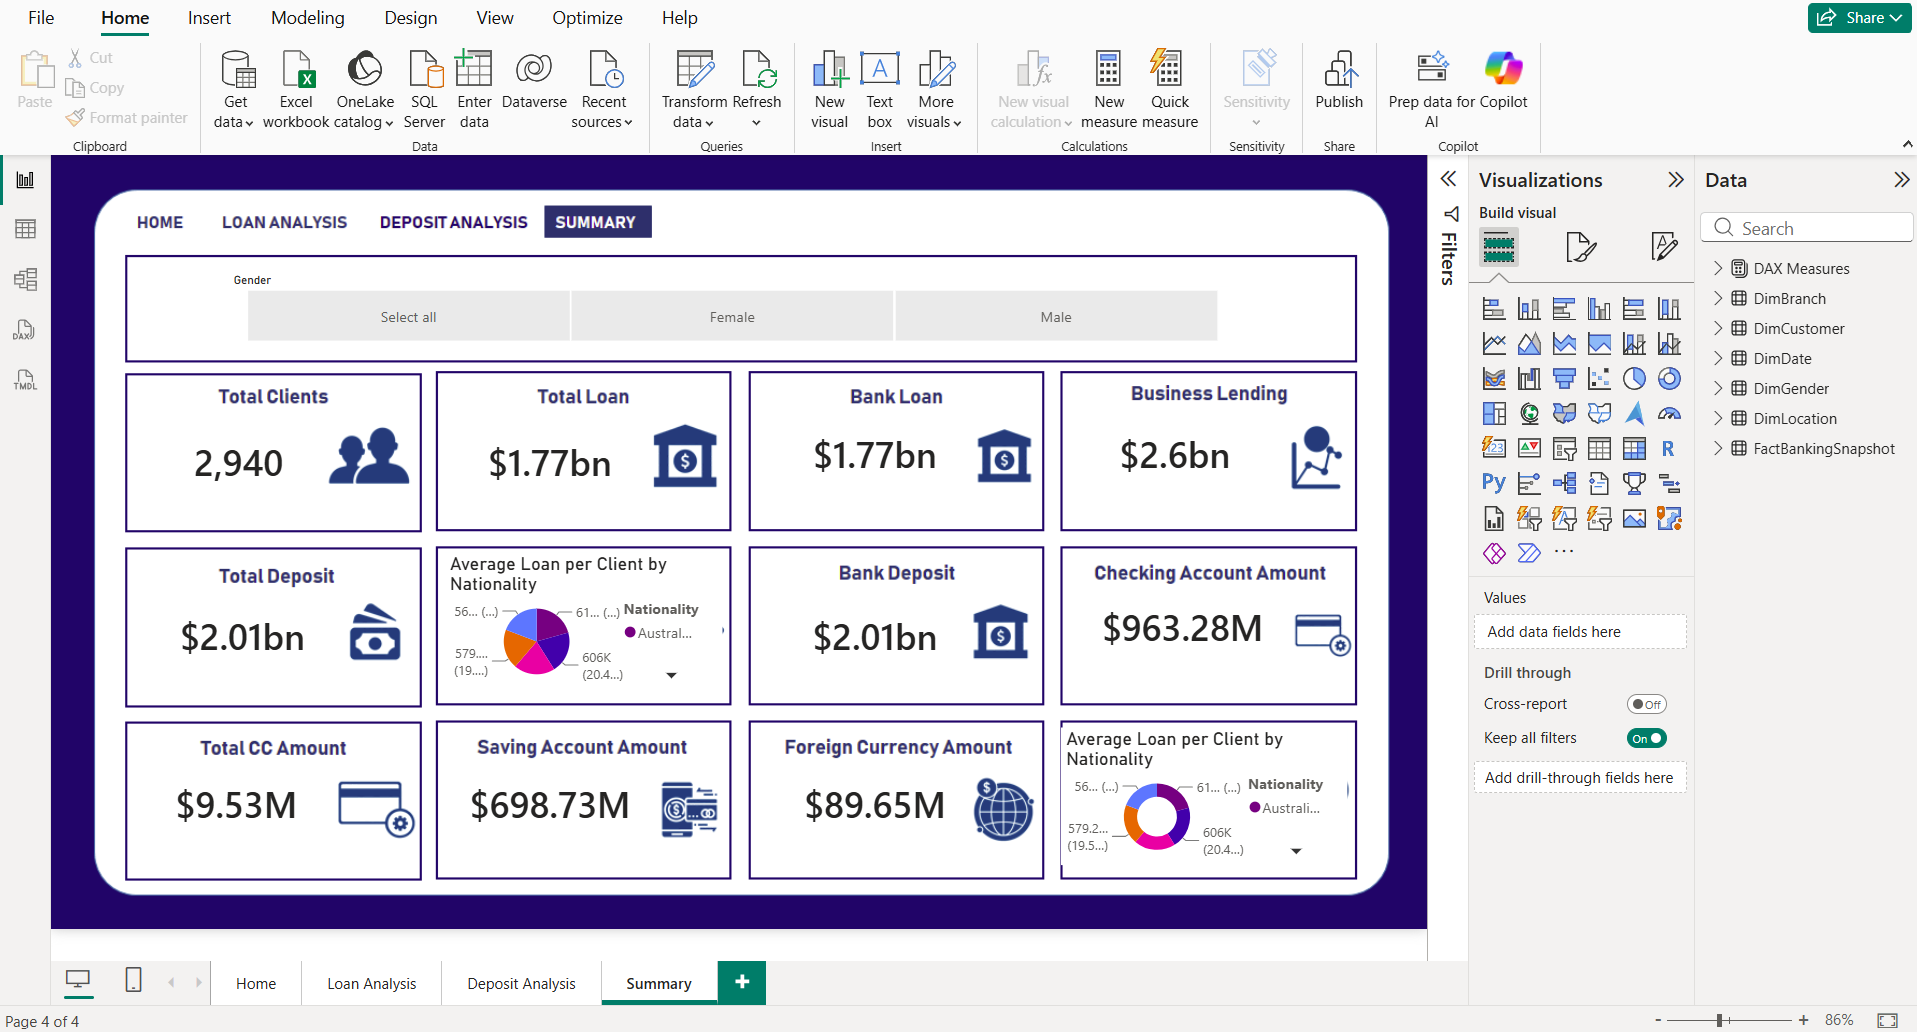

Layout of this report page (visuals, bound fields, positions):
{"tool":"powerbi","page":{"name":"Summary","canvas":[1280,720],"ordinal":3},"visuals":[{"type":"card","fields":{"Values":["DAX Measures.Foreign Currency Account"]},"box":[667.2,546.4,198.2,114.9],"z":0},{"type":"card","fields":{"Values":["DAX Measures.Bank Deposit"]},"box":[667.2,390.5,198.2,114.9],"z":1000},{"type":"card","fields":{"Values":["DAX Measures.Checking Accounts"]},"box":[953.4,382.3,198.2,114.9],"z":2000},{"type":"card","fields":{"Values":["DAX Measures.Bank Loan"]},"box":[667.2,220.5,198.2,114.9],"z":3000},{"type":"card","fields":{"Values":["DAX Measures.Business Lending"]},"box":[953.4,220.5,184.1,114.9],"z":4000},{"type":"card","fields":{"Values":["DAX Measures.Savings Account"]},"box":[360,546.4,207.6,114.9],"z":5000},{"type":"card","fields":{"Values":["DAX Measures.Total CC Amount"]},"box":[72.7,546.4,198.2,114.9],"z":6000},{"type":"card","fields":{"Values":["DAX Measures.Total Deposit"]},"box":[78.6,390.5,198.2,114.9],"z":7000},{"type":"card","fields":{"Values":["DAX Measures.Total Clients"]},"box":[75,228.7,198.2,114.9],"z":8000},{"type":"card","fields":{"Values":["DAX Measures.Total Loan"]},"box":[365.9,228.7,195.8,114.9],"z":9000},{"type":"slicer","fields":{"Values":["DimGender.Gender"]},"box":[156.7,105,951.7,75],"z":10000},{"type":"actionButton","box":[72.8,44.2,58.5,31],"z":11000},{"type":"actionButton","box":[306.9,44.7,119.4,31],"z":12000},{"type":"actionButton","box":[297.9,44.6,147.8,30.5],"z":13000},{"type":"actionButton","box":[157.1,44.6,125.5,30.5],"z":14000},{"type":"pieChart","fields":{"Y":["DAX Measures.Average Loan per Client"],"Category":["DimCustomer.Nationality"]},"box":[366.7,370,258.3,127.5],"z":15000},{"type":"donutChart","fields":{"Y":["DAX Measures.Average Loan per Client"],"Category":["DimCustomer.Nationality"]},"box":[940,532,266,128],"z":16000}]}

Visuals, with their boxes on the page's 1280x720 design canvas (x1, y1, x2, y2). These are canvas units, not pixel positions in the 1917x1032 screenshot, which may show the page scaled, cropped or inside an application window:
card - DAX Measures.Foreign Currency Account: box=[667, 546, 865, 661]
card - DAX Measures.Bank Deposit: box=[667, 390, 865, 505]
card - DAX Measures.Checking Accounts: box=[953, 382, 1152, 497]
card - DAX Measures.Bank Loan: box=[667, 220, 865, 335]
card - DAX Measures.Business Lending: box=[953, 220, 1138, 335]
card - DAX Measures.Savings Account: box=[360, 546, 568, 661]
card - DAX Measures.Total CC Amount: box=[73, 546, 271, 661]
card - DAX Measures.Total Deposit: box=[79, 390, 277, 505]
card - DAX Measures.Total Clients: box=[75, 229, 273, 344]
card - DAX Measures.Total Loan: box=[366, 229, 562, 344]
slicer - DimGender.Gender: box=[157, 105, 1108, 180]
actionButton: box=[73, 44, 131, 75]
actionButton: box=[307, 45, 426, 76]
actionButton: box=[298, 45, 446, 75]
actionButton: box=[157, 45, 283, 75]
pieChart - DAX Measures.Average Loan per Client x DimCustomer.Nationality: box=[367, 370, 625, 498]
donutChart - DAX Measures.Average Loan per Client x DimCustomer.Nationality: box=[940, 532, 1206, 660]
